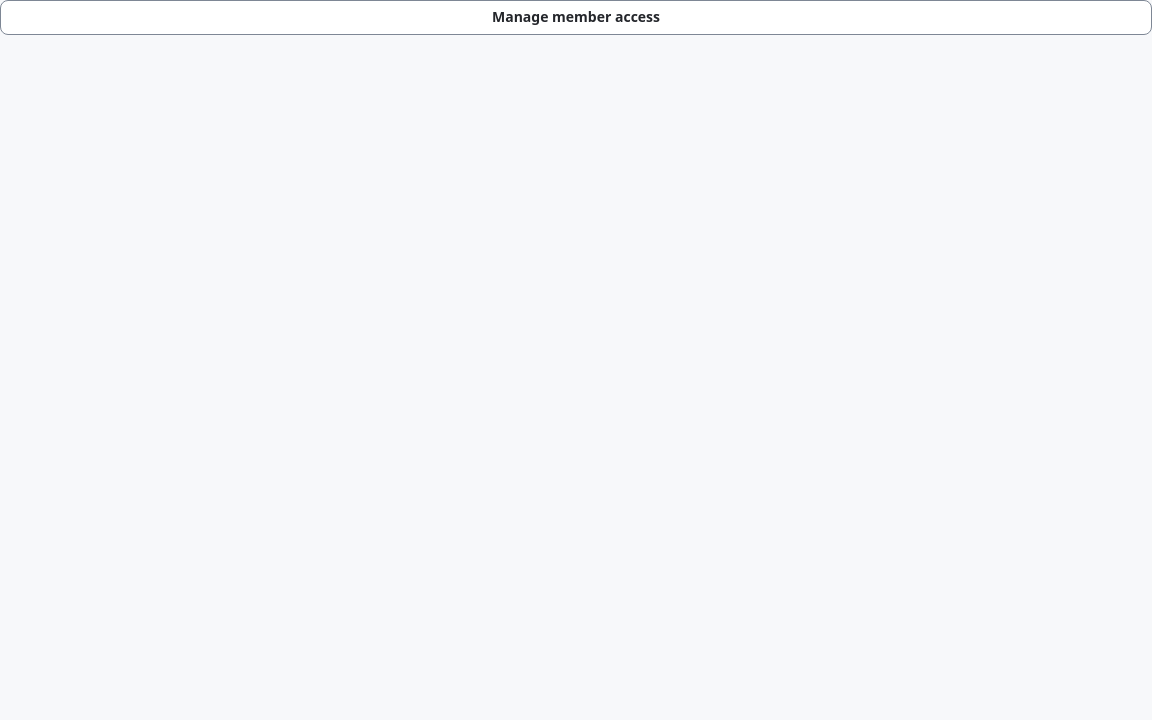
Test: organization member controls › permits backing out before any command is sent
The width and height of the screenshot is (1152, 720).
Click the button "Manage member access": [576, 17] box [0,0,1151,35]
(page scrolled)
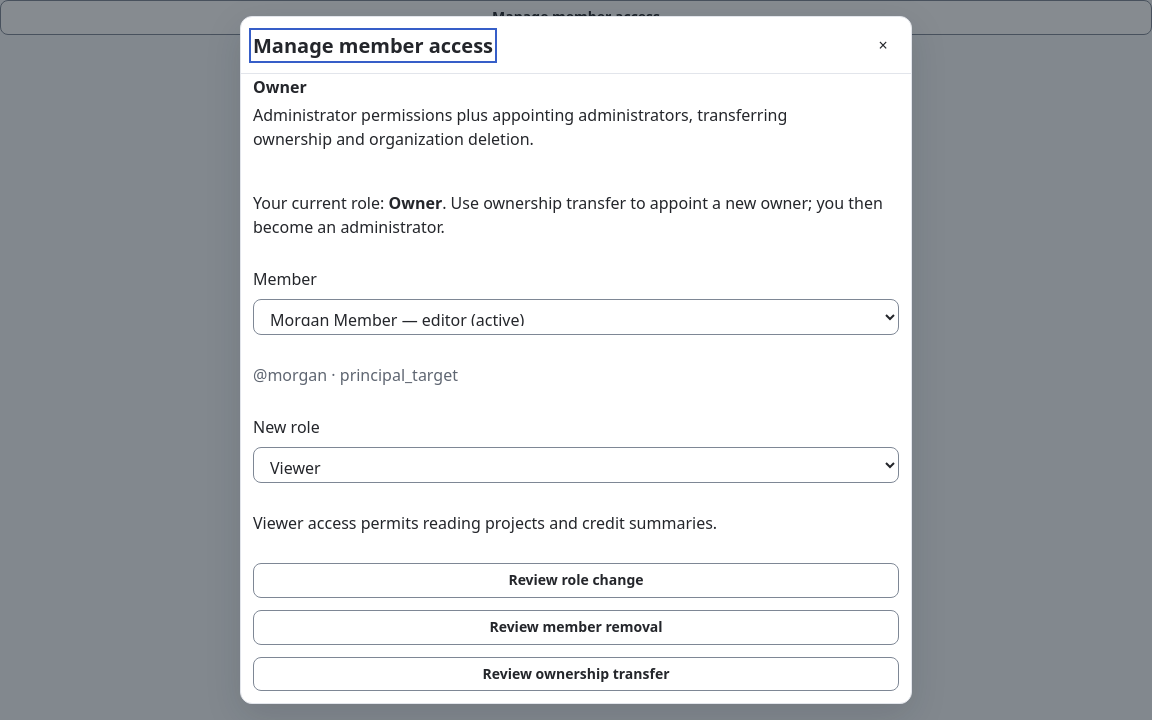
expect the dropdown labelled "Member" is shown: met, box [253,299,899,335]
Click the button "Review member removal": [576, 627] box [253,610,899,645]
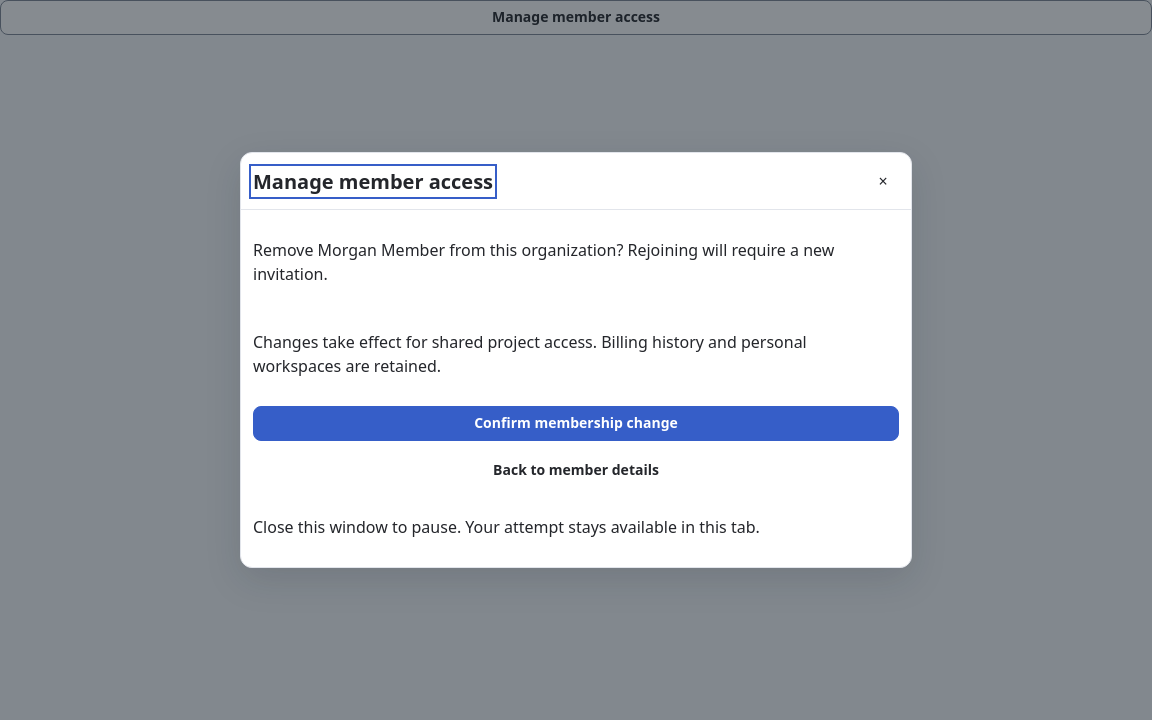
Click the button "Back to member details": [576, 470] box [253,452,899,487]
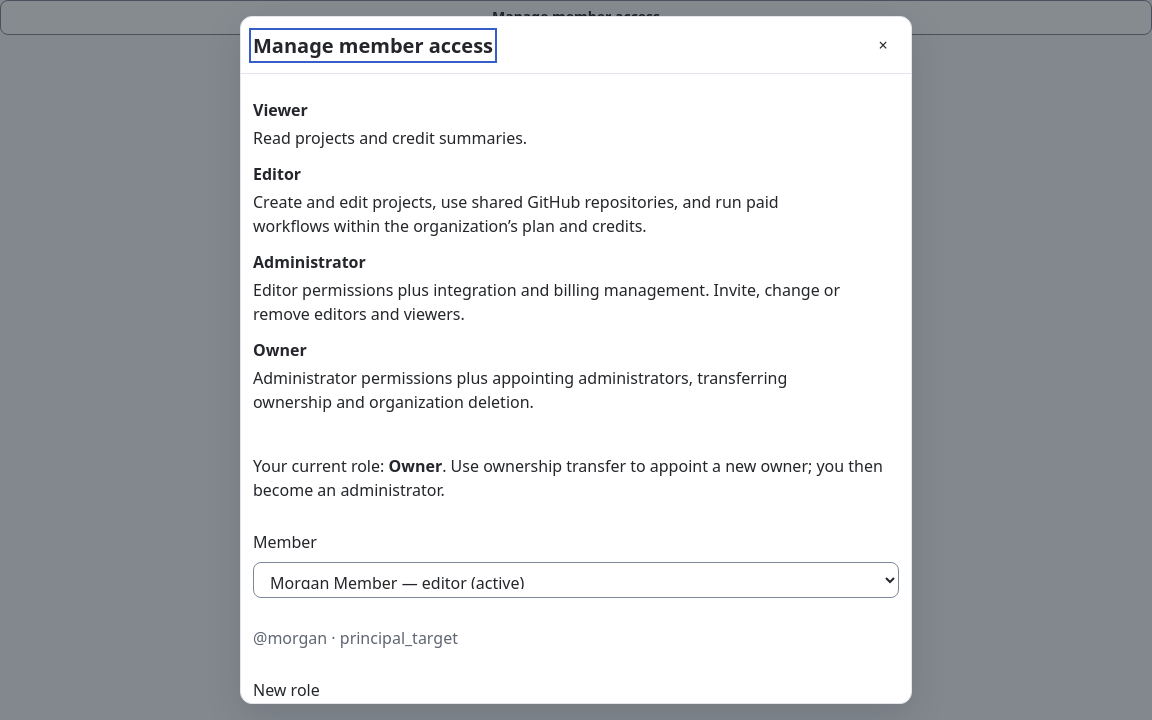
expect the dropdown labelled "Member" is shown: met, box [253,562,899,598]
